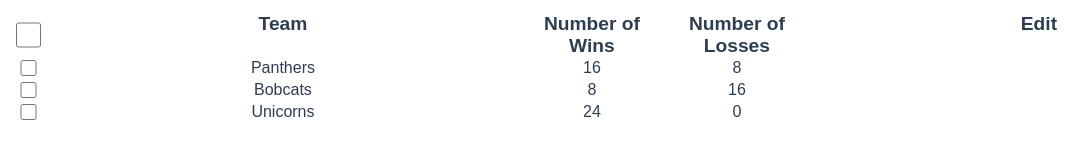
it: EasyTable.vue › Clicking header checkbox when no rows are selected selects all rows
The image size is (1074, 160).
Click the 1st checkbox.
click(28, 35)  # box [16,16,41,54]
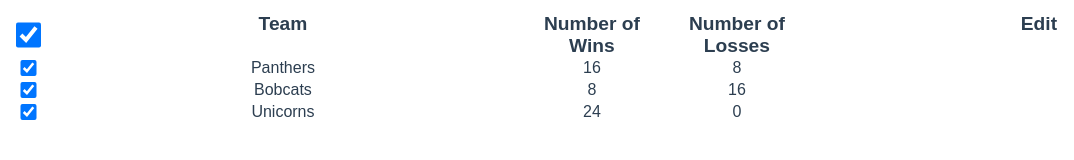
Result: the 1st checkbox is checked at [16,16,41,54]
Result: the checkbox in the row of "Panthers" is checked at [16,60,41,76]
Result: the checkbox in the row of "Bobcats" is checked at [16,82,41,98]
